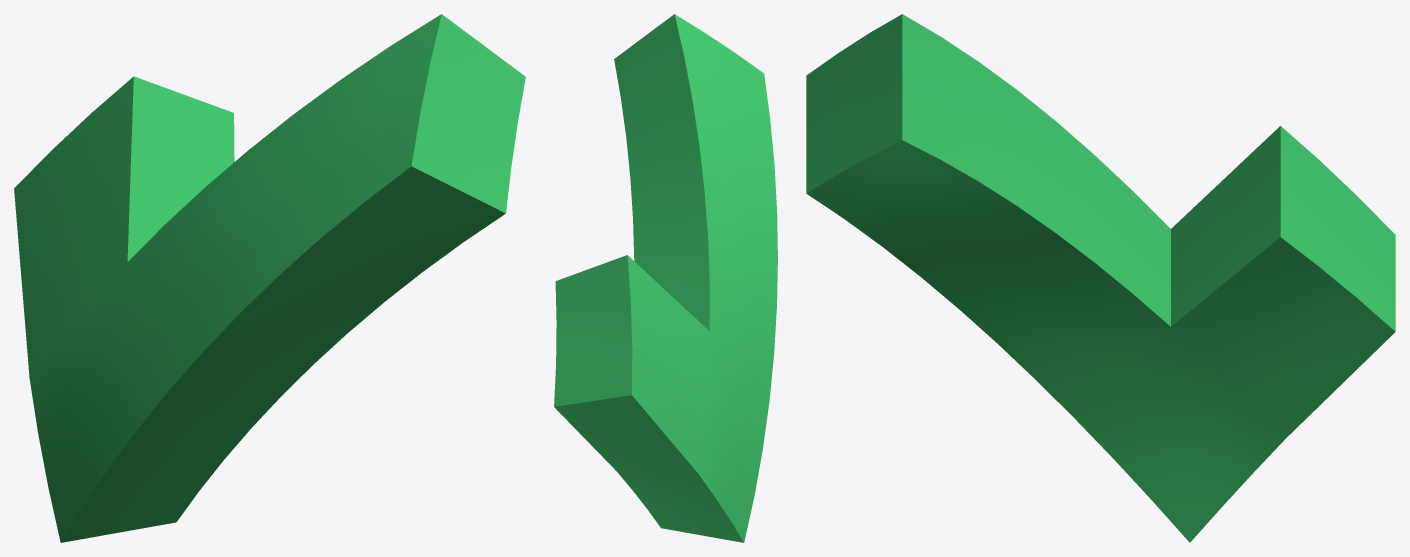
The model's file is mark.dae.
The picture shows the model from 3 angles, left to right: view 1: azimuth 30°, elevation 25°; view 2: azimuth 150°, elevation 25°; view 3: azimuth 270°, elevation 25°; orthographic projection. The views are drawn at different scales.
Visible parts, largest first — view 1: Cube.1; view 2: Cube.1; view 3: Cube.1.
Part boxes in pixels (x1,y1,x2,y2): Cube.1: (14,14,525,542); Cube.1: (554,14,777,542); Cube.1: (806,14,1395,542).
Size of the model in its own units: 139 by 240 by 217.
